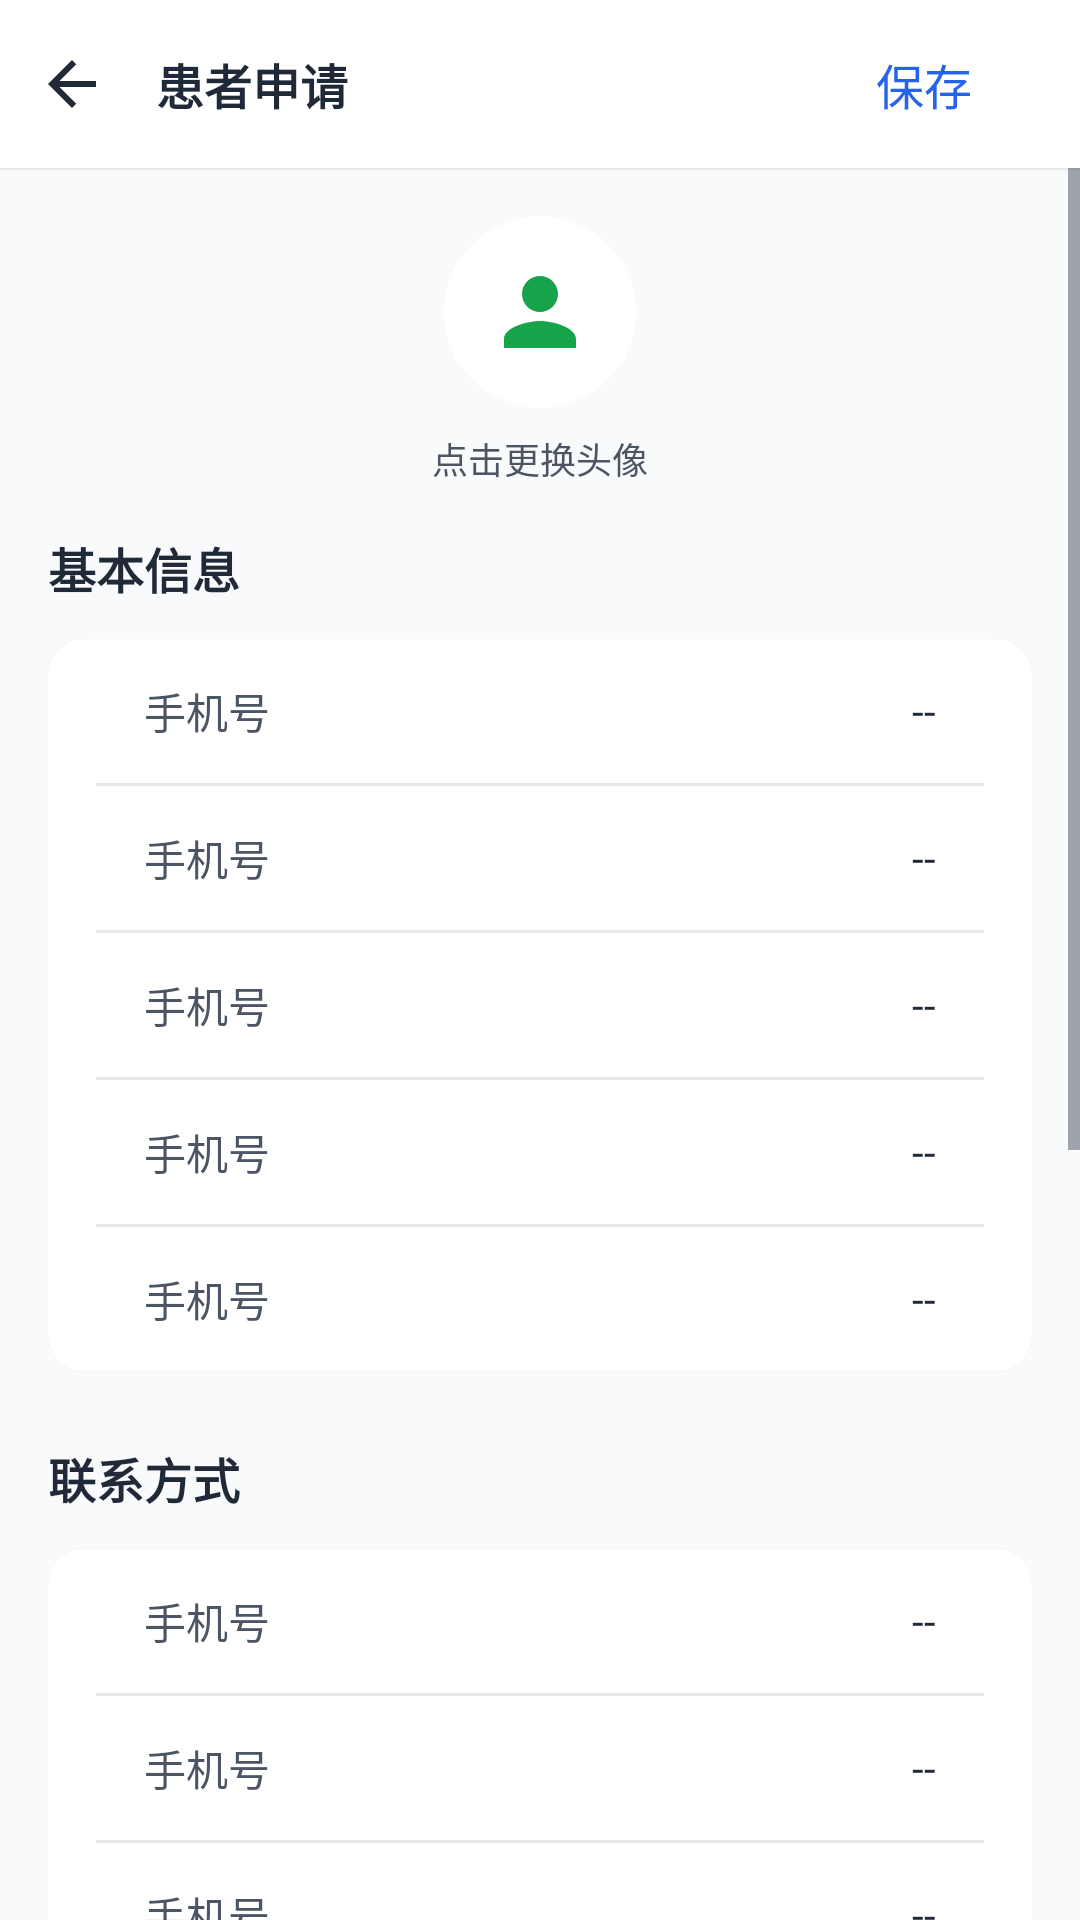

Screen size 1080w x 1920h. Icon name, then its center in pixels as point (x, y):
返回: point (72, 84)
